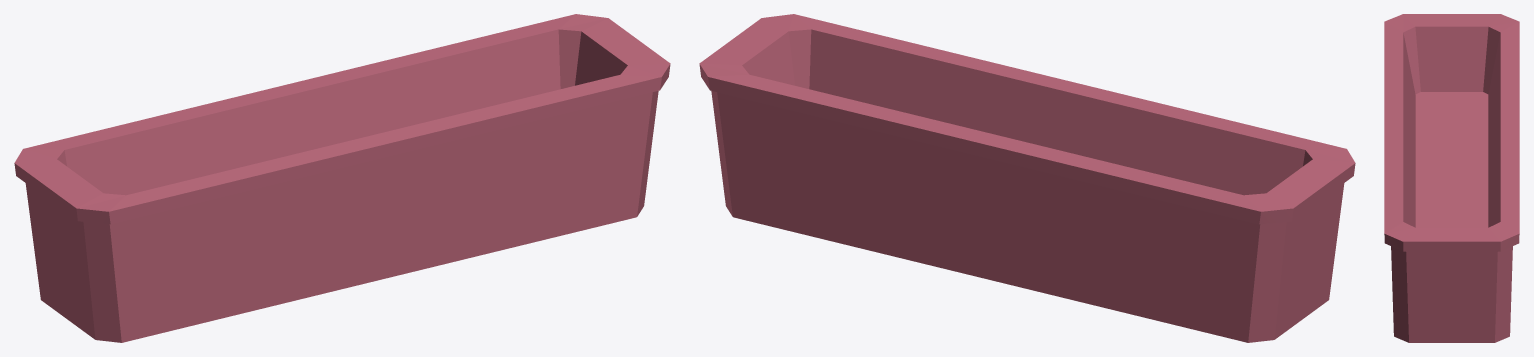
The model's file is m_pot_long.FBX.
3 renders of one model, left to right at view 1: azimuth 30°, elevation 25°; view 2: azimuth 150°, elevation 25°; view 3: azimuth 270°, elevation 25°, orthographic. The views are drawn at different scales.
Parts seen in each view (by area): view 1: pot4; view 2: pot4; view 3: pot4.
Boxes of the visible parts, x1=… form: pot4: x1=14, y1=14, x2=670, y2=342; pot4: x1=699, y1=14, x2=1355, y2=342; pot4: x1=1384, y1=14, x2=1519, y2=342.
Size of the model in its own units: 44.64 by 10.11 by 11.18.
